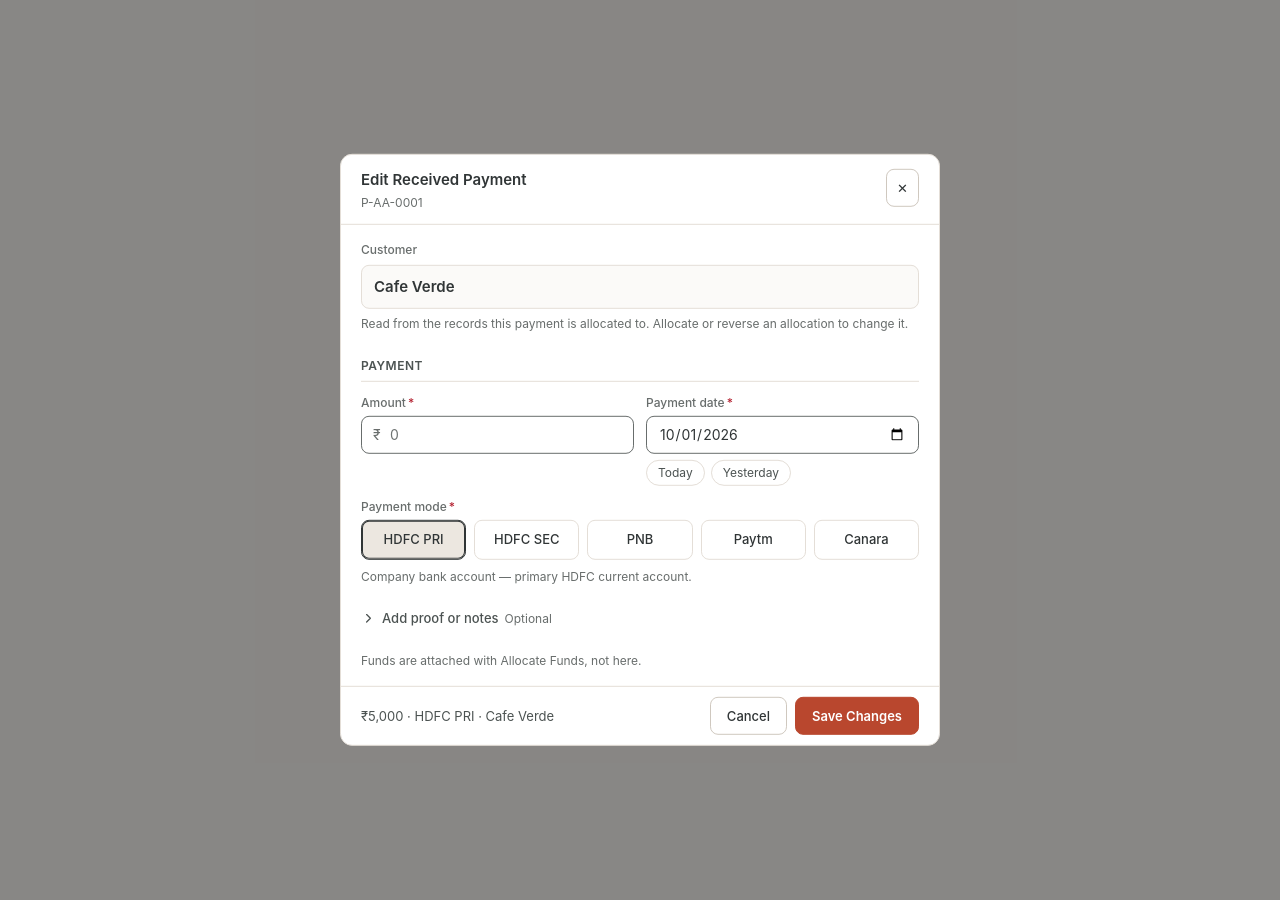
Test case: Edit Received Payment › clearing the amount and pressing Save names the problem and writes nothing
The image size is (1280, 900).
Clear the field with placeholder "0" at (498,435), box [361, 416, 634, 454]
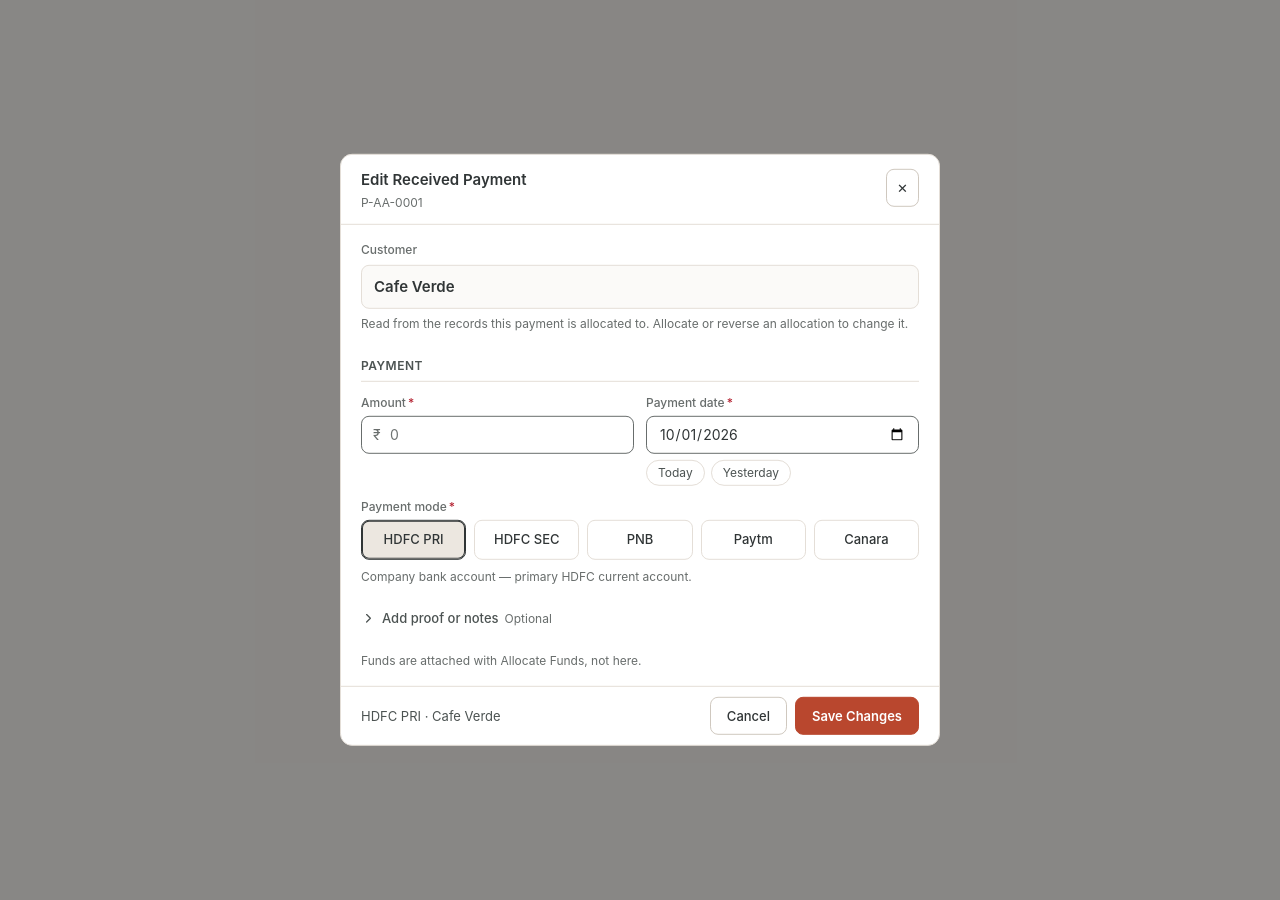
Click the button "Save Changes".
click(857, 716)  # box [795, 697, 919, 735]
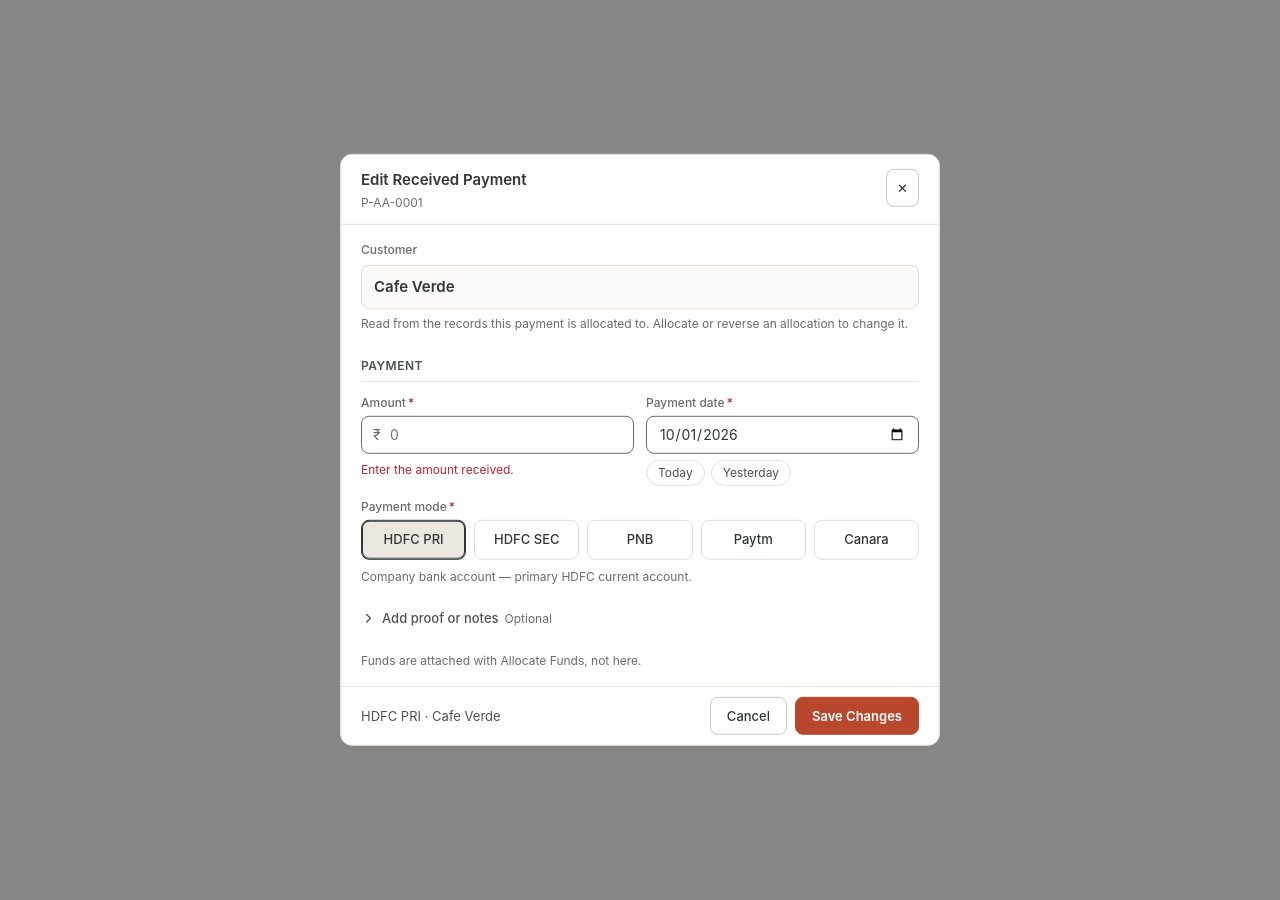
expect the text "Enter the amount received." is shown: met, box [361, 462, 514, 477]
